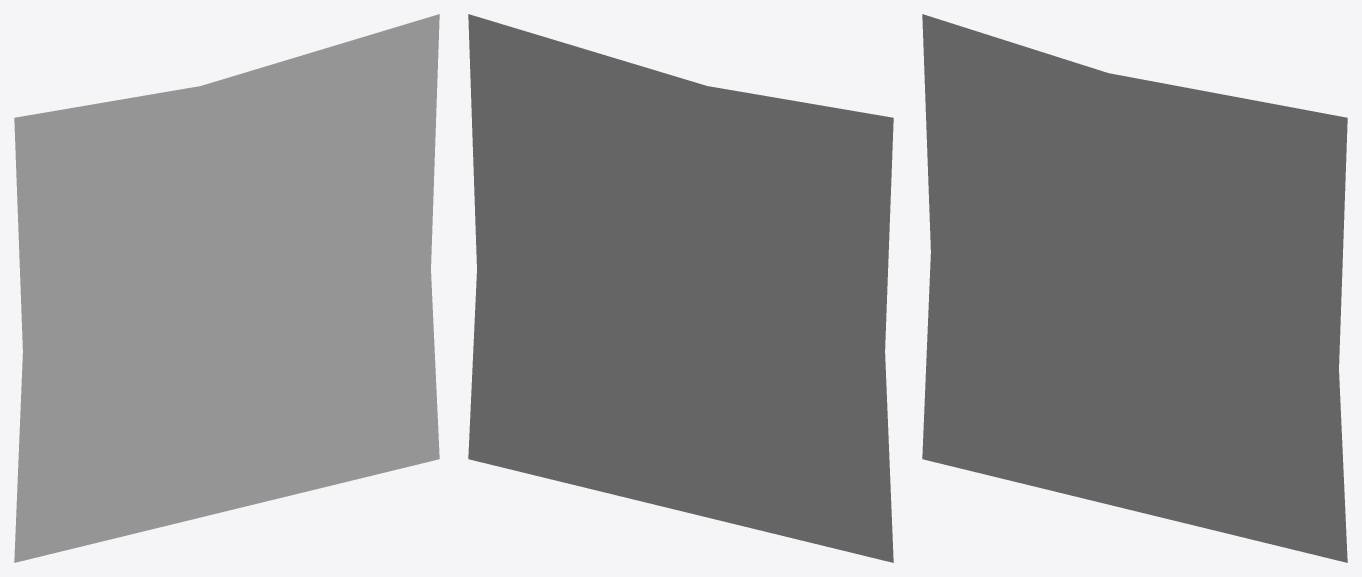
3 renders of one model, left to right at view 1: azimuth 30°, elevation 25°; view 2: azimuth 150°, elevation 25°; view 3: azimuth 330°, elevation 25°, orthographic.
Visible parts, largest first — view 1: Plane; view 2: Plane; view 3: Plane.
Boxes of the visible parts, left/top/right/bottom form: Plane: left=14, top=14, right=439, bottom=562; Plane: left=468, top=14, right=893, bottom=562; Plane: left=922, top=14, right=1347, bottom=562.
Size of the model in its own units: 0.5 by 0.5 by 7.45e-08.
Materials: 1 (1 with a texture image).
